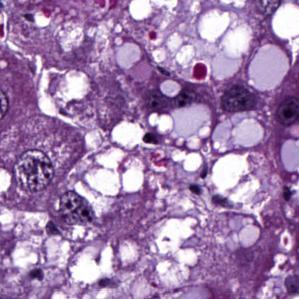ballooning: (143, 3, 255, 88)
